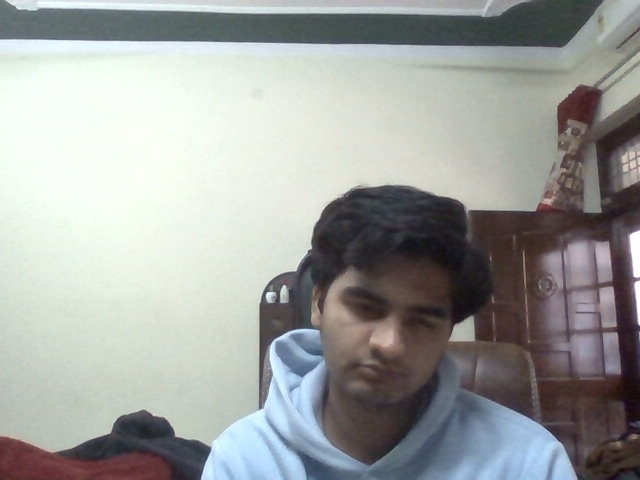sadness: (346, 265, 447, 405)
